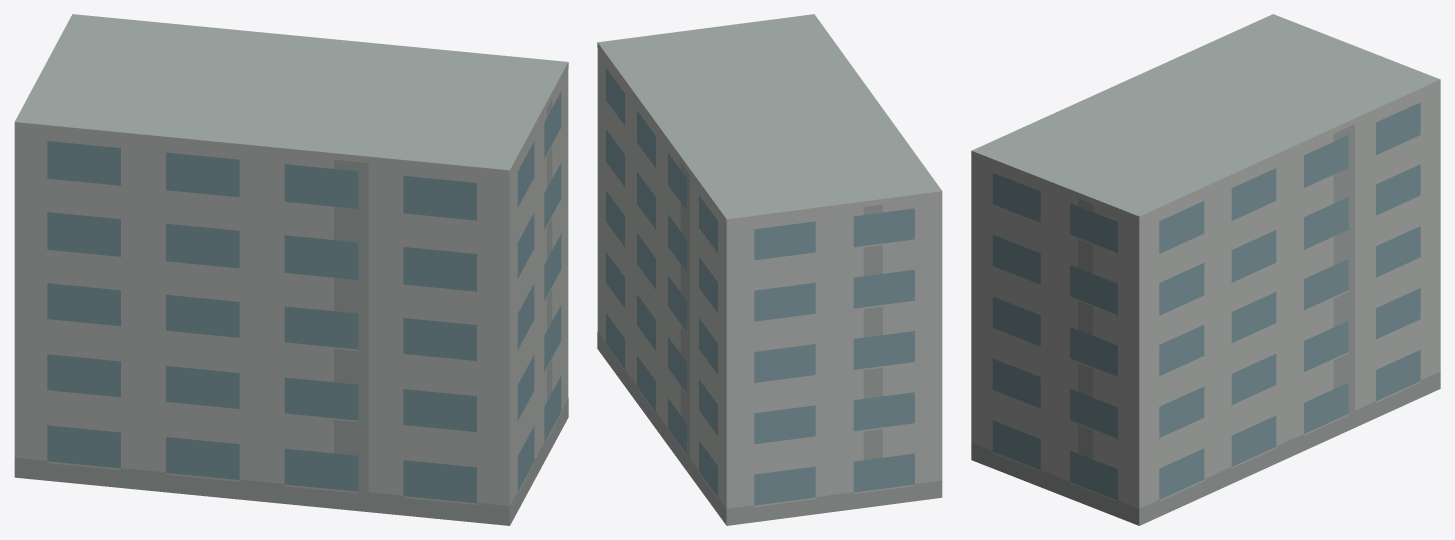
File: survey-upis-32739742.glb
3 renders of one model, left to right at view 1: azimuth 30°, elevation 25°; view 2: azimuth 150°, elevation 25°; view 3: azimuth 270°, elevation 25°, orthographic. The views are drawn at different scales.
Visible parts, largest first — view 1: survey-upis-32739742.tmp; view 2: survey-upis-32739742.tmp; view 3: survey-upis-32739742.tmp.
Part boxes in pixels (left/top/right/bottom): survey-upis-32739742.tmp: left=14, top=14, right=568, bottom=525; survey-upis-32739742.tmp: left=597, top=14, right=942, bottom=525; survey-upis-32739742.tmp: left=971, top=14, right=1440, bottom=525.
Bounding box in the file's own units: 18.47 × 13.15 × 18.08.
